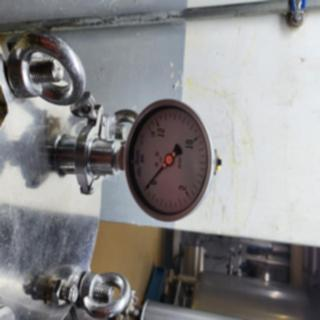gauge: (124, 96, 216, 222), (142, 174, 158, 198), (178, 186, 196, 202), (163, 154, 173, 166), (143, 184, 149, 193)
